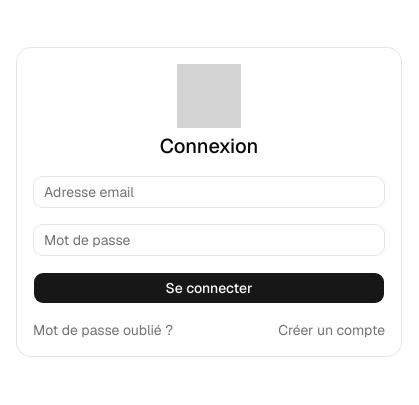
Scenario: LoginPage › handles signIn rejection gracefully
Type "user@test.com" into the field with placeholder "Adresse email" at (209, 192), box [33,176,385,208]
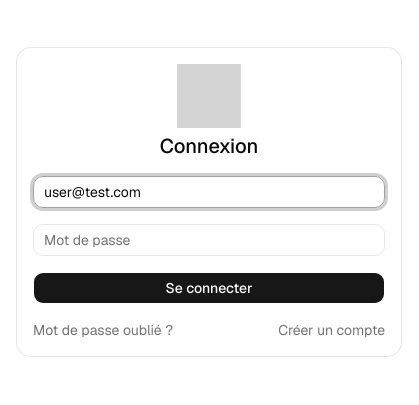
Type "wrongpass" into the password field with placeholder "Mot de passe" at (209, 240), box [33,224,385,256]
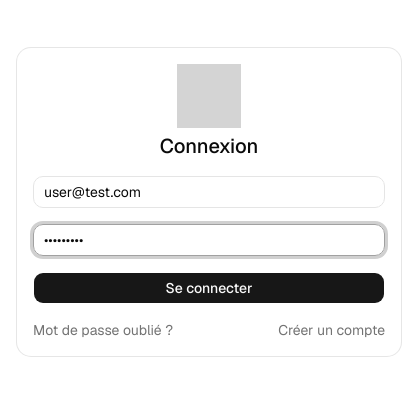
Click the button "Se connecter" at (209, 288), box [33,272,385,304]
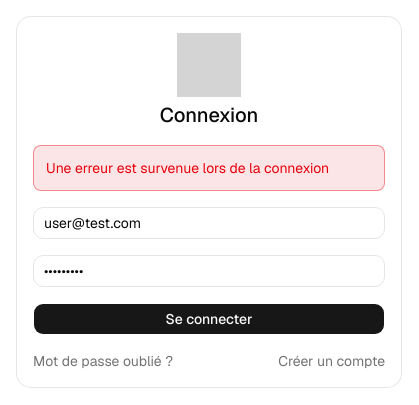
Expected: the text "Connexion" is shown, [160,102,258,128]
Result: the text "Une erreur est survenue lors de la connexion" is shown at [33,145,385,191]
